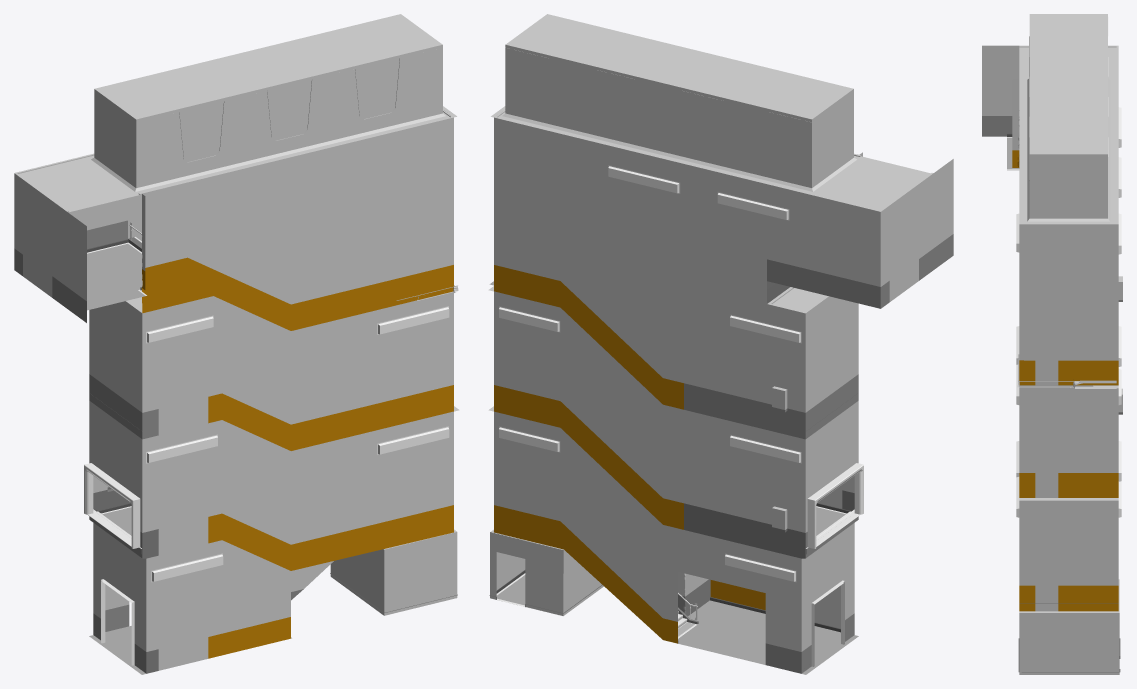
3 renders of one model, left to right at view 1: azimuth 30°, elevation 25°; view 2: azimuth 150°, elevation 25°; view 3: azimuth 270°, elevation 25°, orthographic. The views are drawn at different scales.
Parts seen in each view (by area): view 1: SM_H_Building_FutureTech_HLight_01_InterWall_02O; view 2: SM_H_Building_FutureTech_HLight_01_InterWall_02O; view 3: SM_H_Building_FutureTech_HLight_01_InterWall_02O.
Part boxes in pixels (left/top/right/bottom): SM_H_Building_FutureTech_HLight_01_InterWall_02O: left=14, top=14, right=459, bottom=674; SM_H_Building_FutureTech_HLight_01_InterWall_02O: left=488, top=14, right=953, bottom=674; SM_H_Building_FutureTech_HLight_01_InterWall_02O: left=982, top=14, right=1122, bottom=674.
Bounding box in the file's own units: 261 × 789 × 1073.
